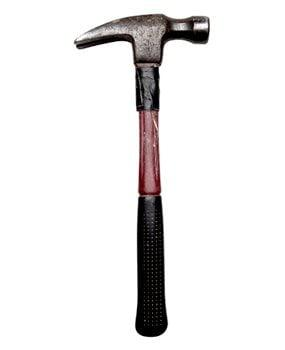Hammers: (58, 8, 223, 347)
